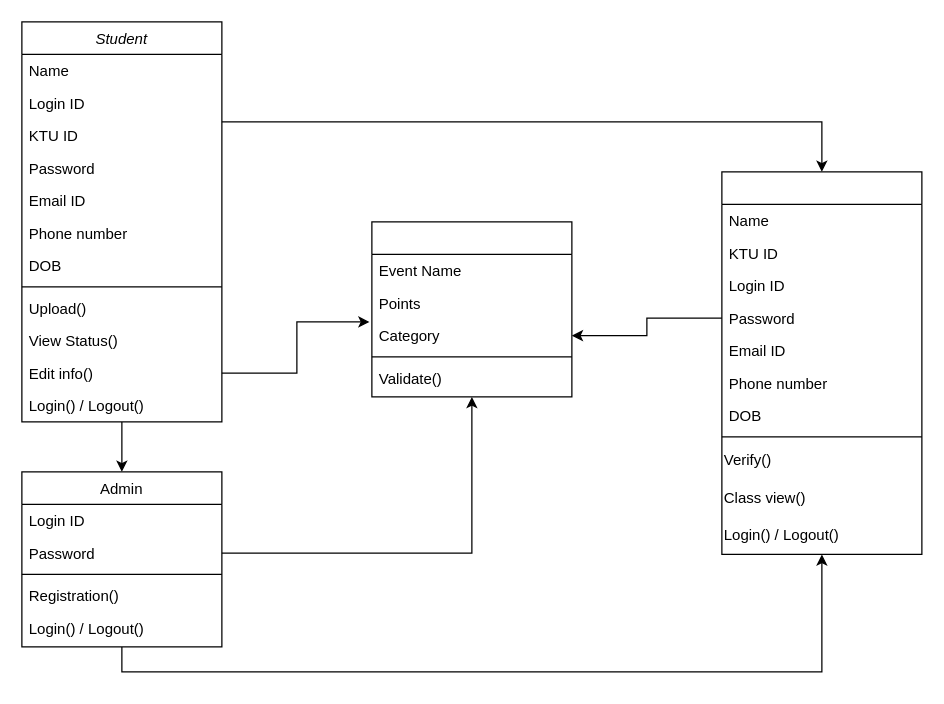
This 944x704 diagram has some shape labels left out. The box of each missing label's shape, as (x1, y1, x2, y2) in pixels:
Certificate: (371, 221, 572, 397)
Tutor: (721, 171, 922, 554)
